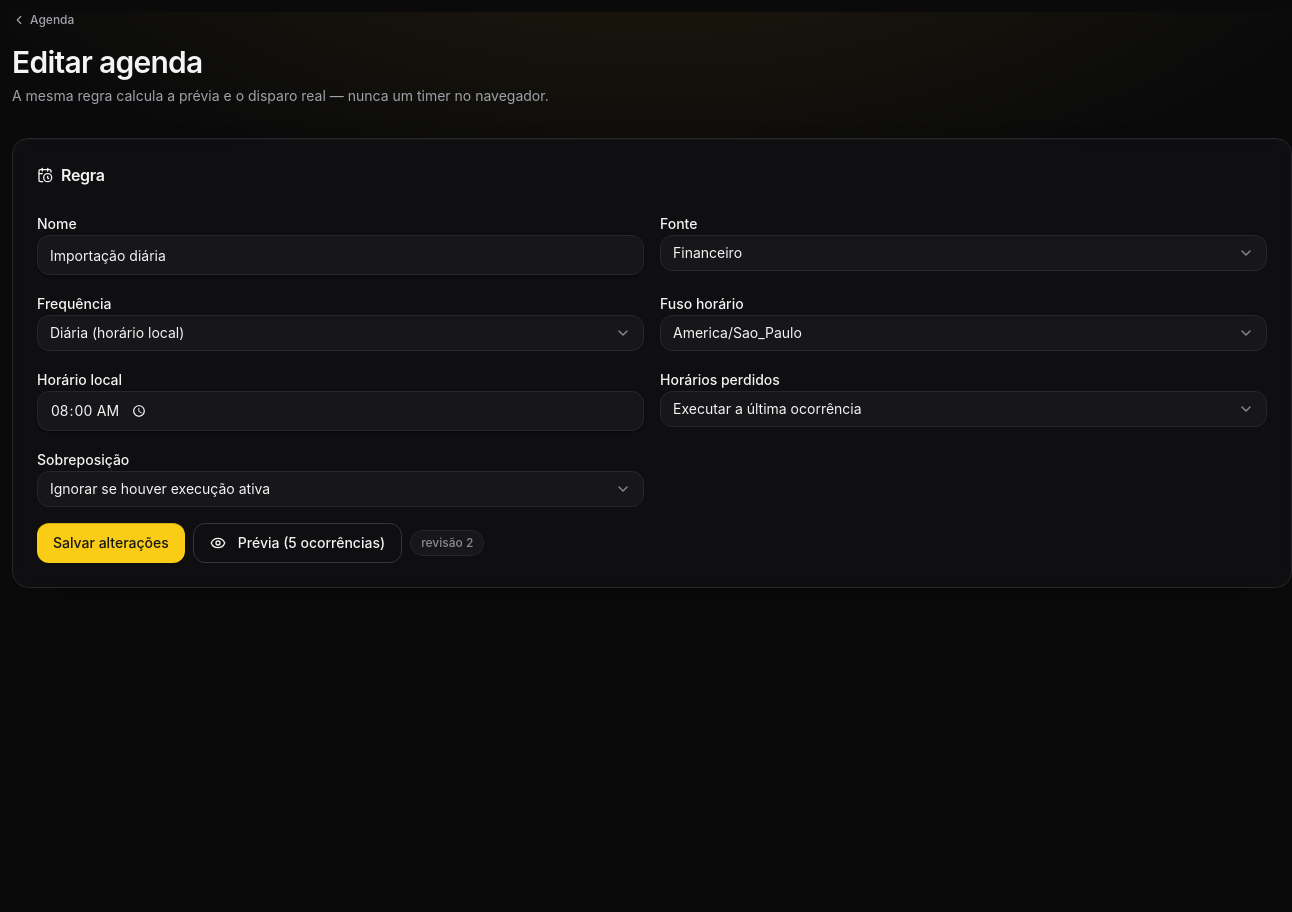
Test case: ScheduleFormPage › shows a clear conflict message on 409 and reloads the latest revision on request
Type "Minha edição" into the field showing "Importação diária" at (340, 255), box [37,235,644,275]
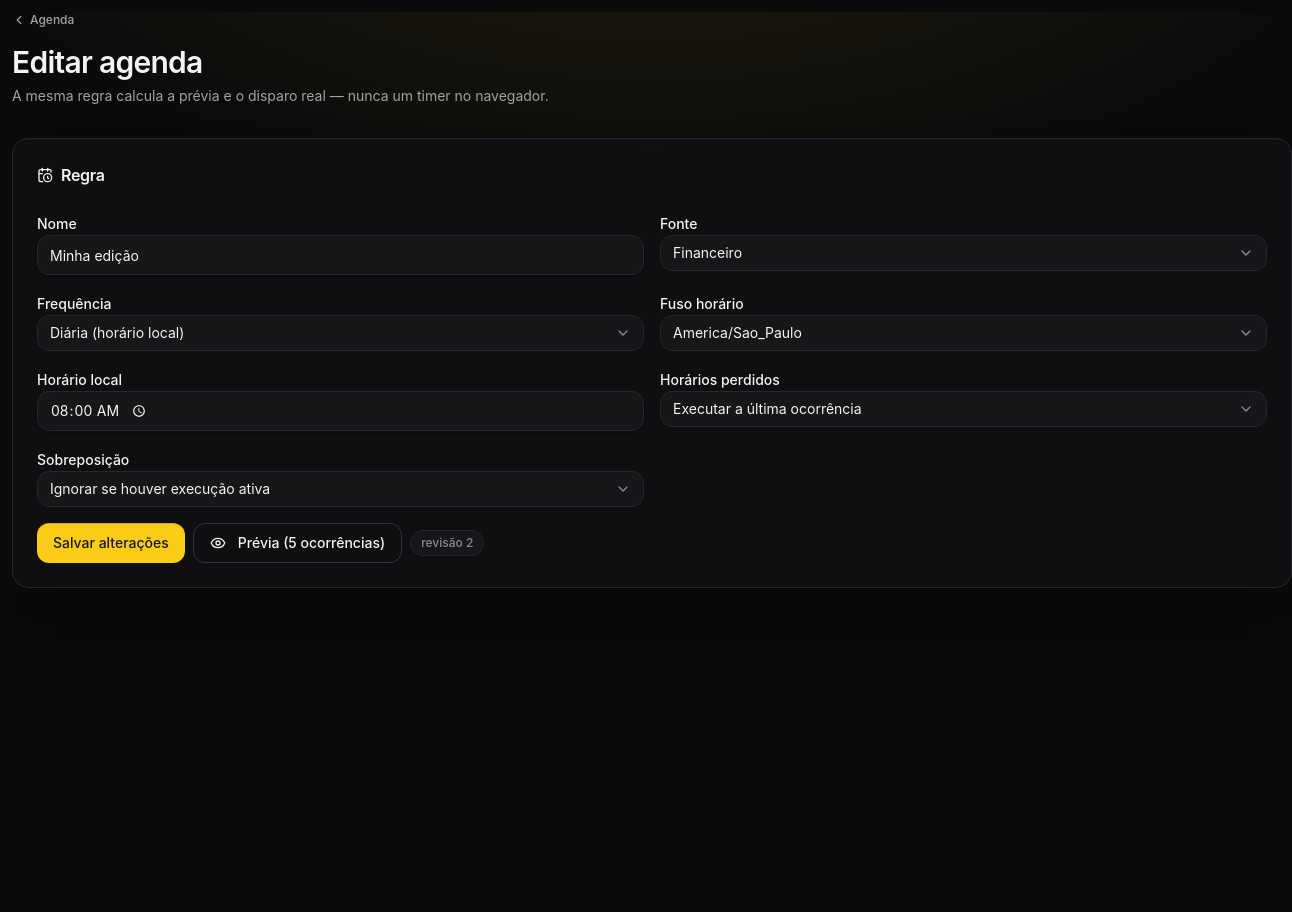
Click the button "Salvar alterações" at (111, 543), box [37,523,185,563]
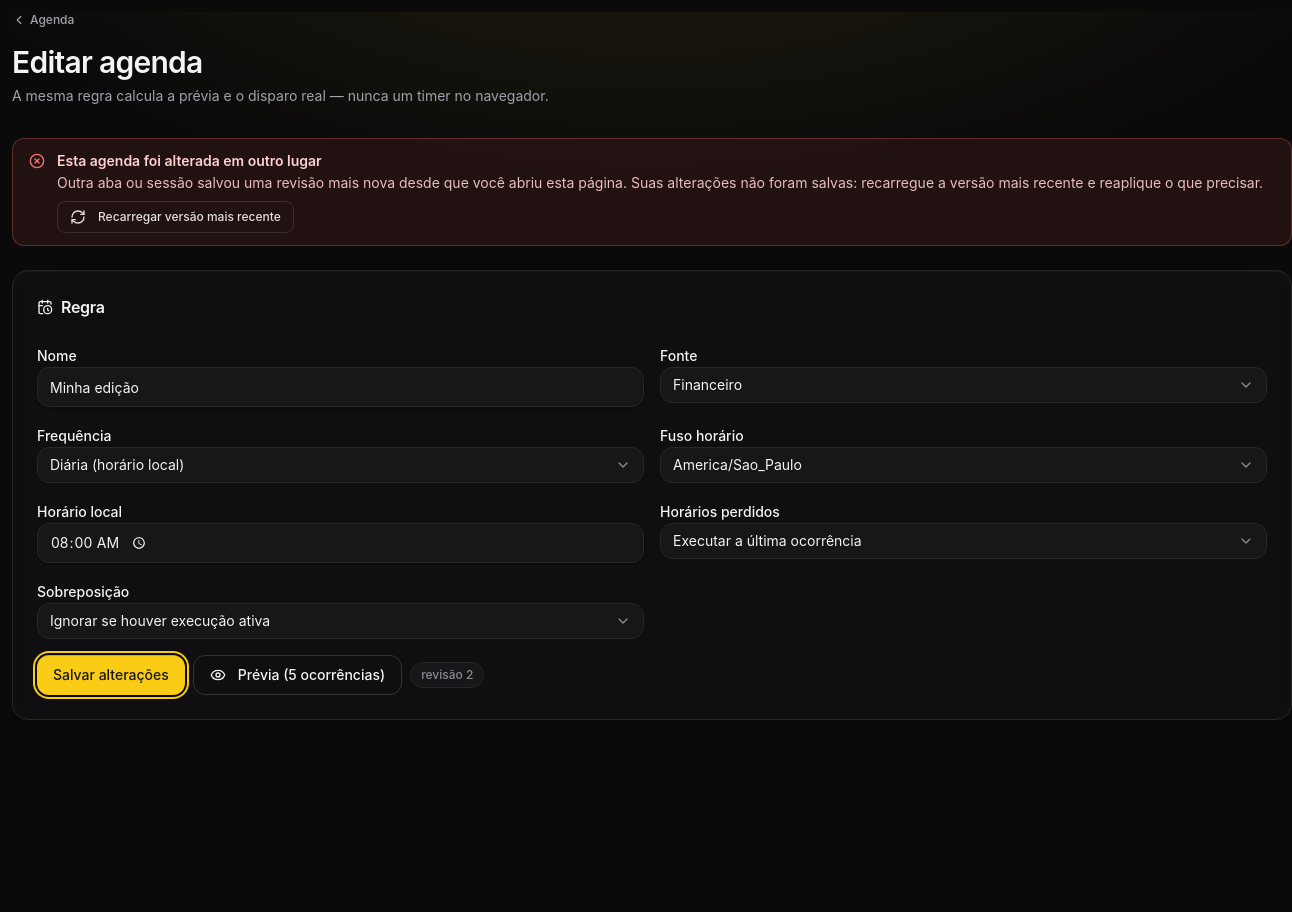
Expected: the text "Esta agenda foi alterada em outro lugar" is shown, [57,152,322,169]
Click the button "Recarregar versão mais recente" at (175, 217), box [57,201,294,233]
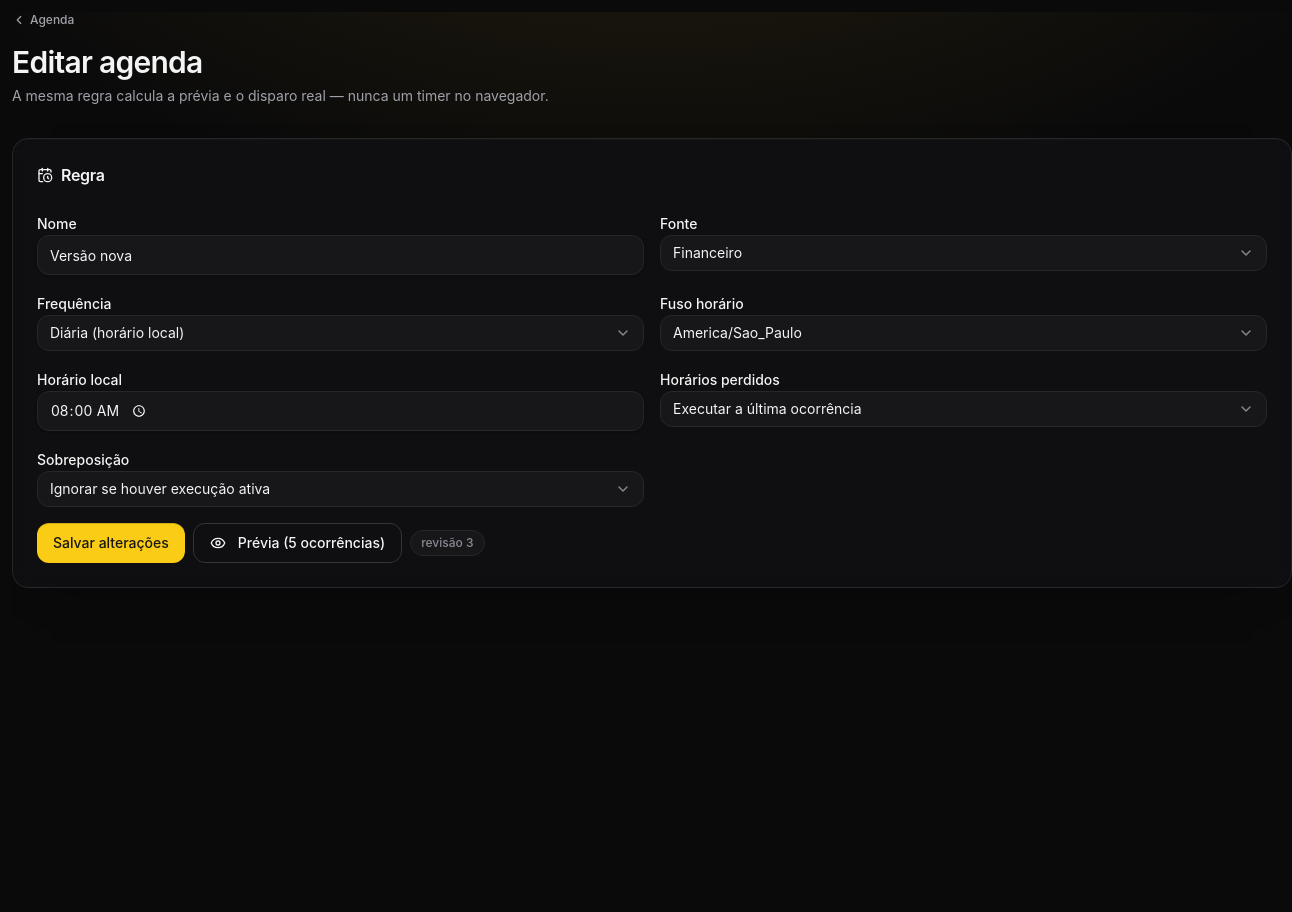
Expected: the field showing "Versão nova" is shown, [37,235,644,275]
Expected: the text "Esta agenda foi alterada em outro lugar" is gone
